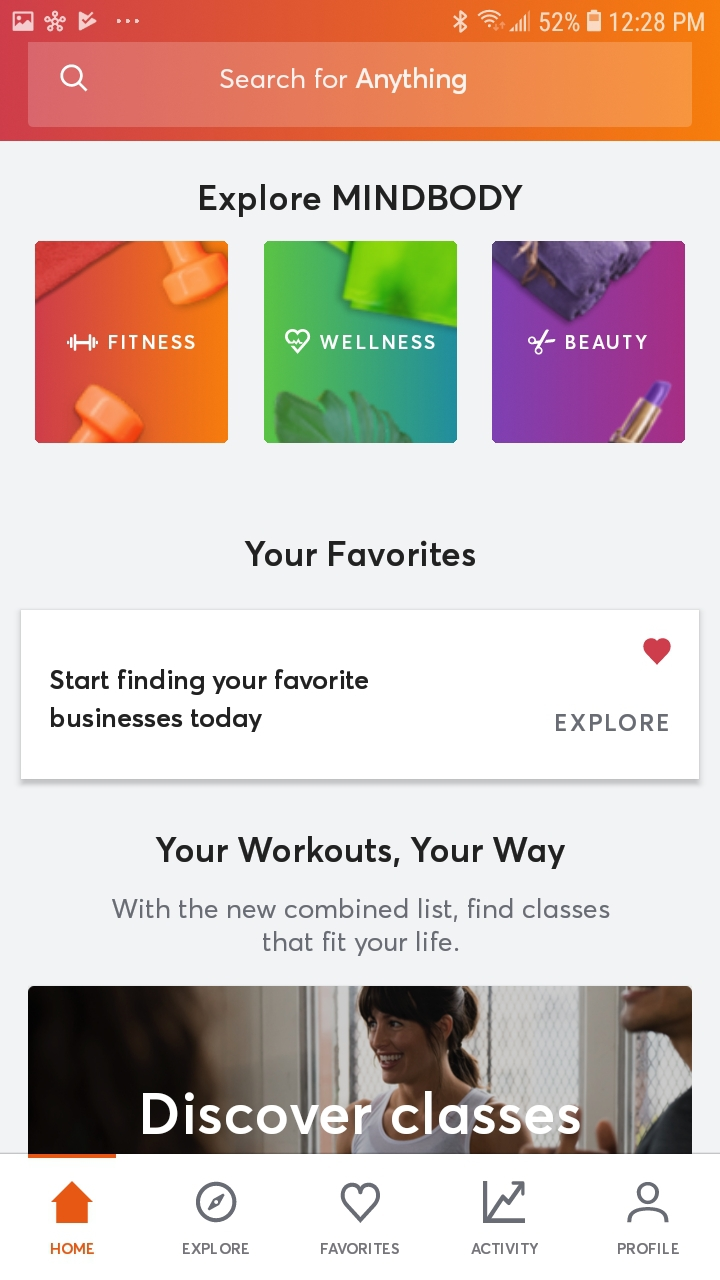EditText: (28, 42, 692, 128)
Icon: (482, 1180, 526, 1223), (52, 1181, 95, 1224), (626, 1181, 669, 1223), (196, 1181, 238, 1223), (340, 1182, 381, 1224), (642, 638, 671, 666), (61, 65, 89, 93)
Image: (28, 986, 692, 1155), (35, 241, 229, 444), (264, 241, 458, 444), (492, 241, 686, 444)
Text: (112, 897, 610, 957), (51, 668, 370, 733), (156, 835, 566, 871), (200, 184, 524, 219), (221, 66, 467, 95), (244, 540, 476, 567), (555, 713, 669, 732), (321, 1242, 400, 1255), (183, 1242, 251, 1255), (471, 1242, 539, 1255), (617, 1242, 679, 1255), (51, 1242, 95, 1255)
UpperTaskBar: (1, 1, 720, 35)
